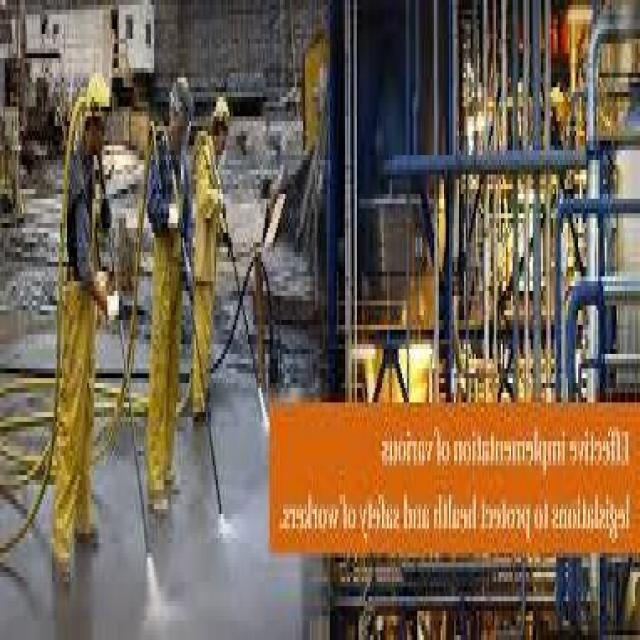Reflective-Jacket: (141, 116, 194, 291), (189, 126, 228, 242)
Safety-Helmet: (166, 58, 194, 126), (210, 82, 237, 140)
